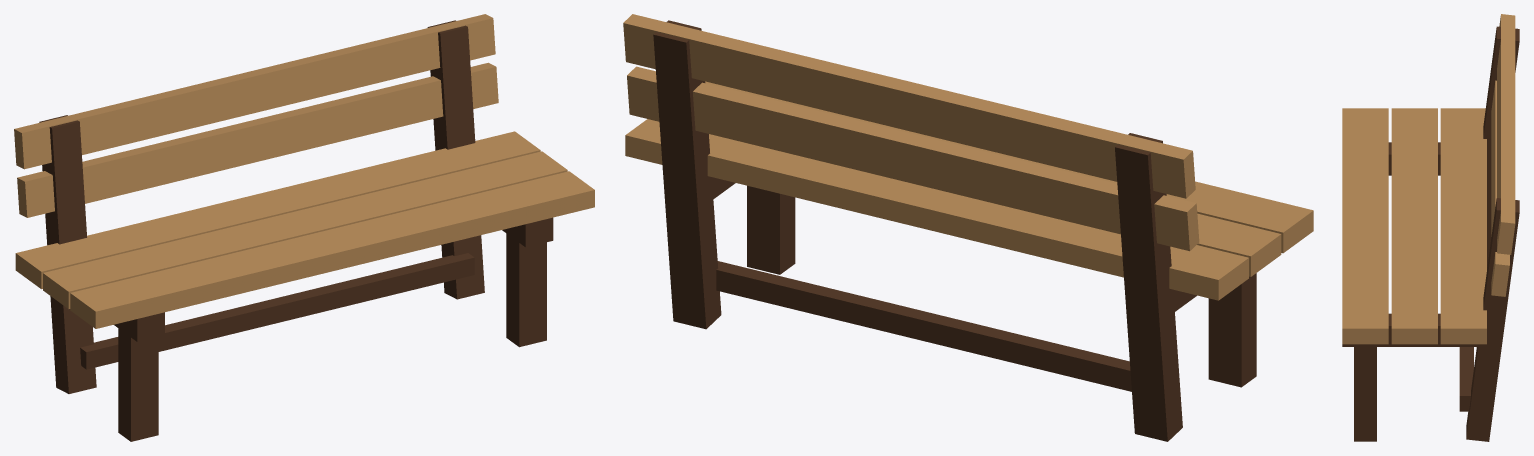
Rendered from Bank.fbx.
3 renders of one model, left to right at view 1: azimuth 30°, elevation 25°; view 2: azimuth 150°, elevation 25°; view 3: azimuth 270°, elevation 25°, orthographic. The views are drawn at different scales.
Parts seen in each view (by area): view 1: Bank; view 2: Bank; view 3: Bank.
Boxes of the visible parts, x1,y1,x2,y2 form: Bank: [14, 14, 594, 441]; Bank: [623, 14, 1313, 441]; Bank: [1342, 14, 1519, 441].
Size of the model in its own units: 1.8 by 0.8842 by 0.6124.
